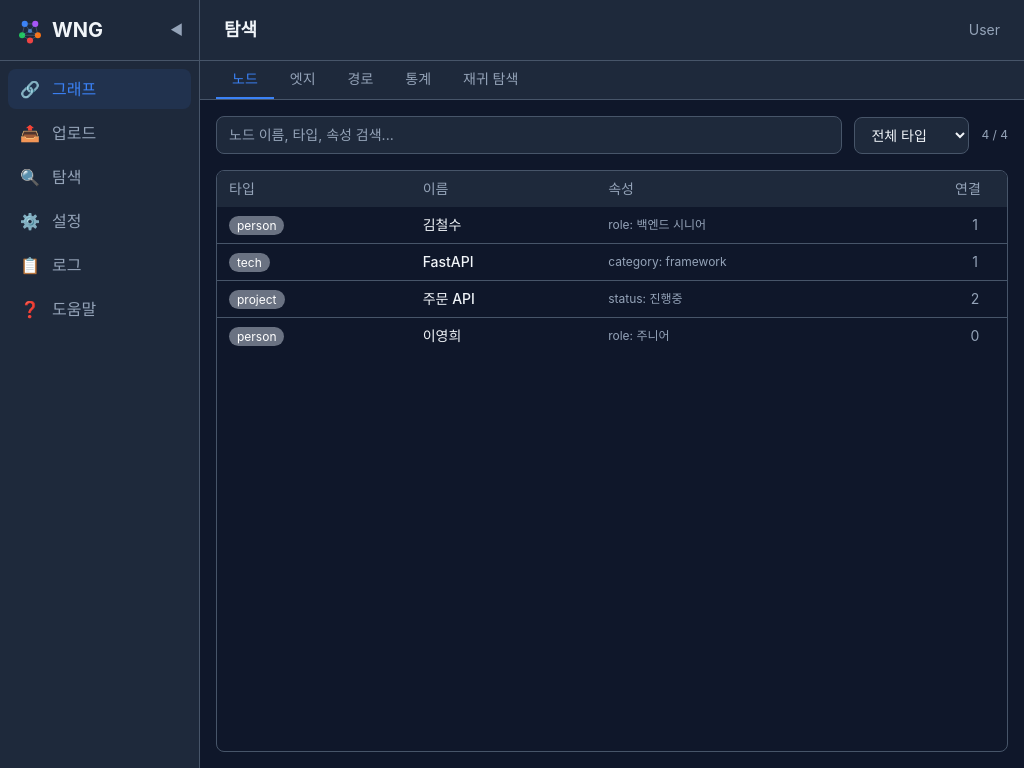
Test: QueryPage › shows node detail panel on row click
What coordinates should you click on to do the following:
click the text "김철수"
I would click on:
 (442, 224)
Its box is [411,207,596,244].
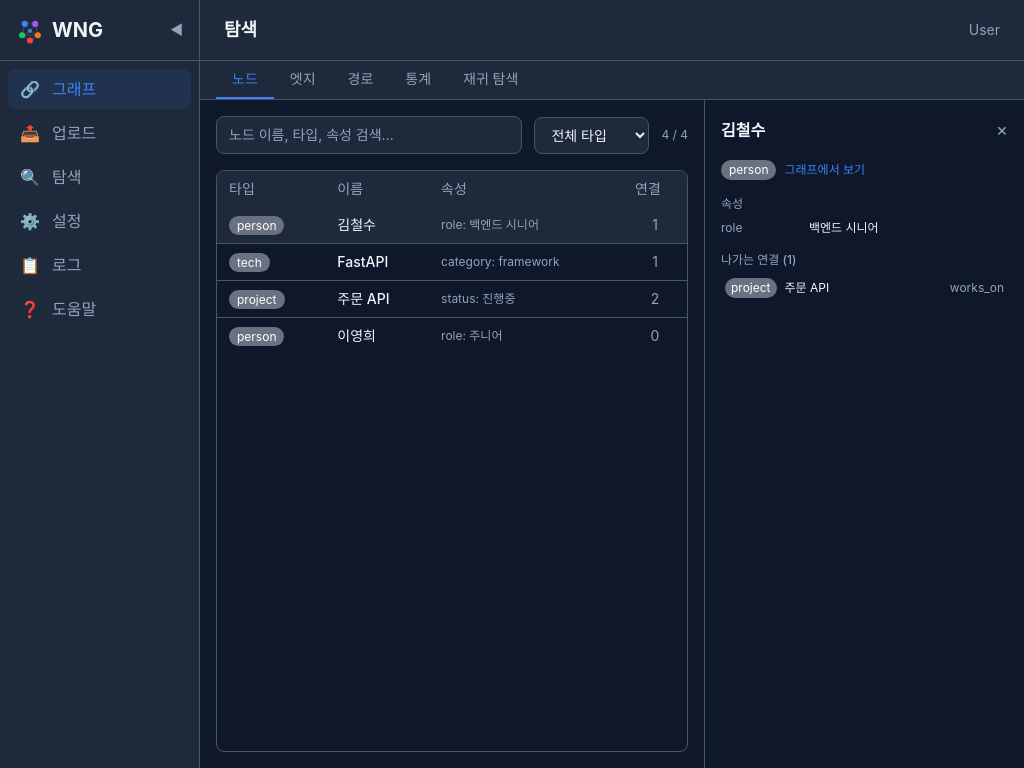
Result: the button "그래프에서 보기" is shown at [784,162,865,178]
Result: the heading "나가는 연결 (1)" is shown at [721,252,796,267]
